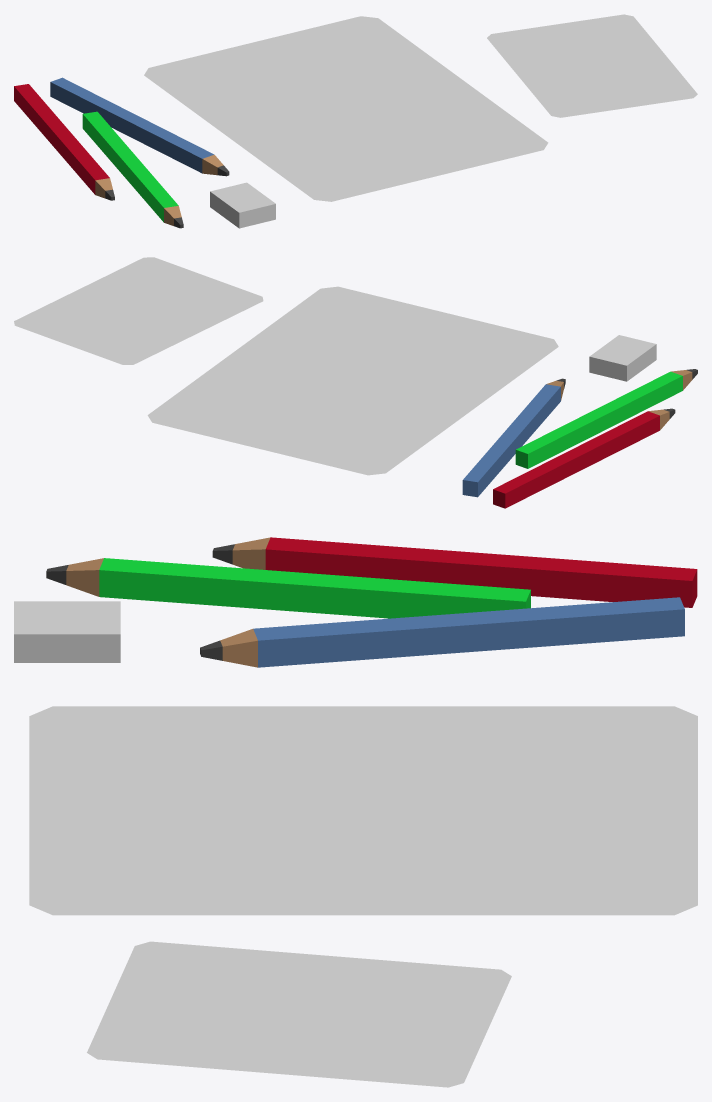
Rendered from Stationery .fbx.
The picture shows the model from 3 angles, top to bottom: view 1: azimuth 30°, elevation 25°; view 2: azimuth 150°, elevation 25°; view 3: azimuth 270°, elevation 25°; orthographic projection. The views are drawn at different scales.
Parts seen in each view (by area): view 1: Stationery; view 2: Stationery; view 3: Stationery.
Boxes of the visible parts, left/top/right/bottom form: Stationery: left=14, top=14, right=697, bottom=228; Stationery: left=14, top=257, right=697, bottom=508; Stationery: left=14, top=537, right=697, bottom=1087.
Size of the model in its own units: 46.69 by 1.2 by 25.8.
